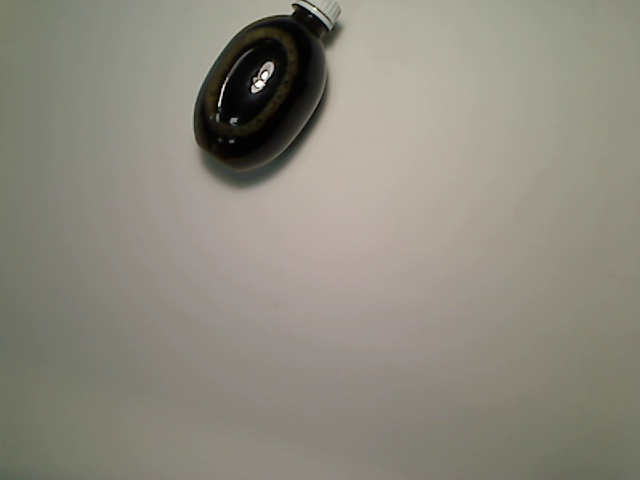plast_bottle: (191, 1, 344, 176)
